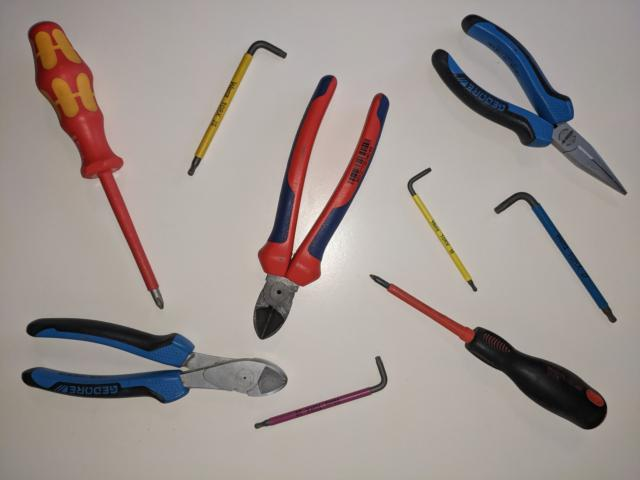Inbusschlüssel: (492, 189, 619, 326), (184, 37, 290, 180), (250, 353, 391, 432), (405, 165, 482, 295)
Schraubendreher: (25, 19, 168, 314), (365, 270, 611, 432)
Seitenschneider: (249, 72, 392, 345), (19, 314, 291, 408)
Zange: (429, 12, 629, 197)
